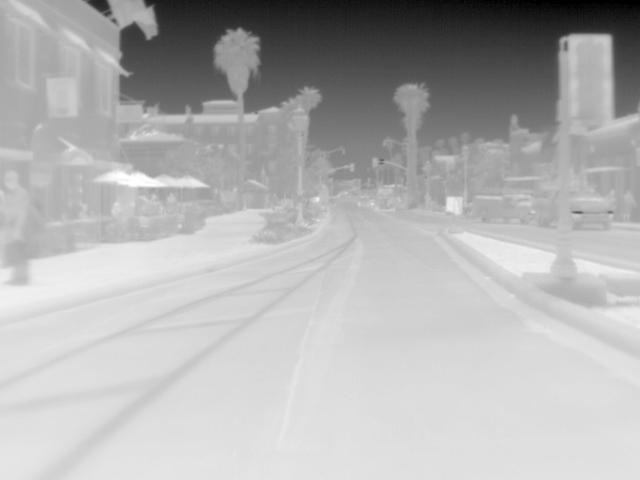car: (471, 194, 534, 224), (571, 186, 611, 228), (532, 191, 558, 227), (374, 186, 398, 212)
person: (3, 165, 36, 287), (621, 190, 636, 223), (606, 188, 620, 214), (110, 200, 126, 218), (163, 193, 177, 213), (78, 202, 93, 218)
